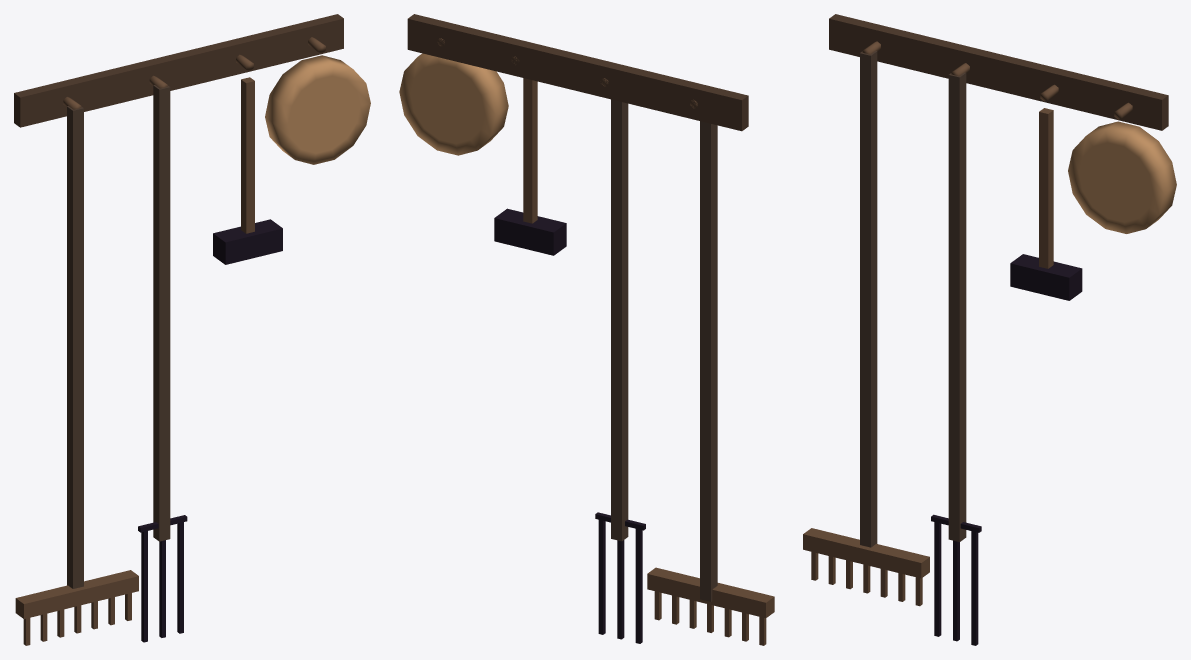
File: tool_rack.glb
3 views of the same model, side by side, from view 1: azimuth 30°, elevation 25°; view 2: azimuth 150°, elevation 25°; view 3: azimuth 330°, elevation 25° (orthographic). The views are drawn at different scales.
Parts seen in each view (by area): view 1: tool_rack; view 2: tool_rack; view 3: tool_rack.
Boxes of the visible parts, x1,y1,x2,y2 form: tool_rack: (14, 14, 370, 645); tool_rack: (399, 14, 774, 645); tool_rack: (803, 14, 1176, 645).
Size of the model in its own units: 0.97 by 1.5 by 0.1.
